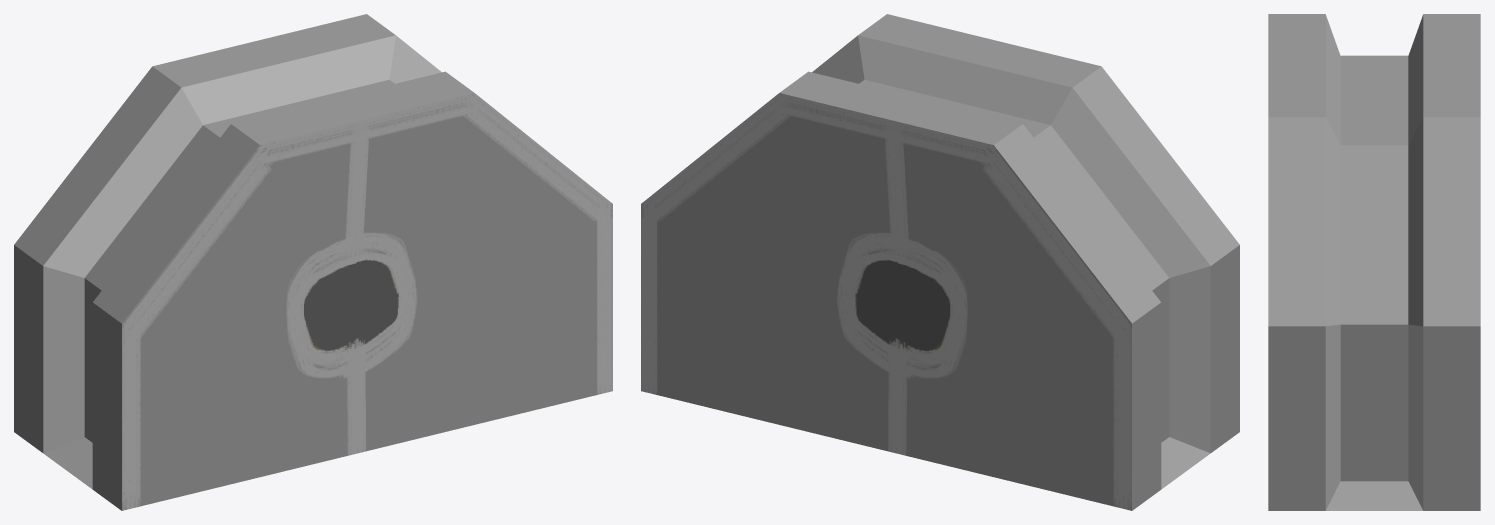
The model's file is blockLeverSupport.obj.
3 renders of one model, left to right at view 1: azimuth 30°, elevation 25°; view 2: azimuth 150°, elevation 25°; view 3: azimuth 270°, elevation 25°, orthographic.
Parts seen in each view (by area): view 1: blockLeverSupport; view 2: blockLeverSupport; view 3: blockLeverSupport.
Boxes of the visible parts, x1,y1,x2,y2 form: blockLeverSupport: (14,14,612,510); blockLeverSupport: (641,14,1239,510); blockLeverSupport: (1268,14,1480,510).
Size of the model in its own units: 1 by 0.6461 by 0.3801.
1 material, 1 textured.
